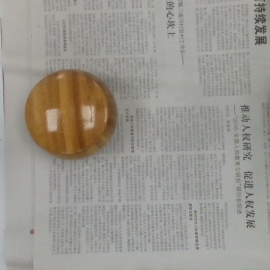chess: (25, 68, 117, 162)
